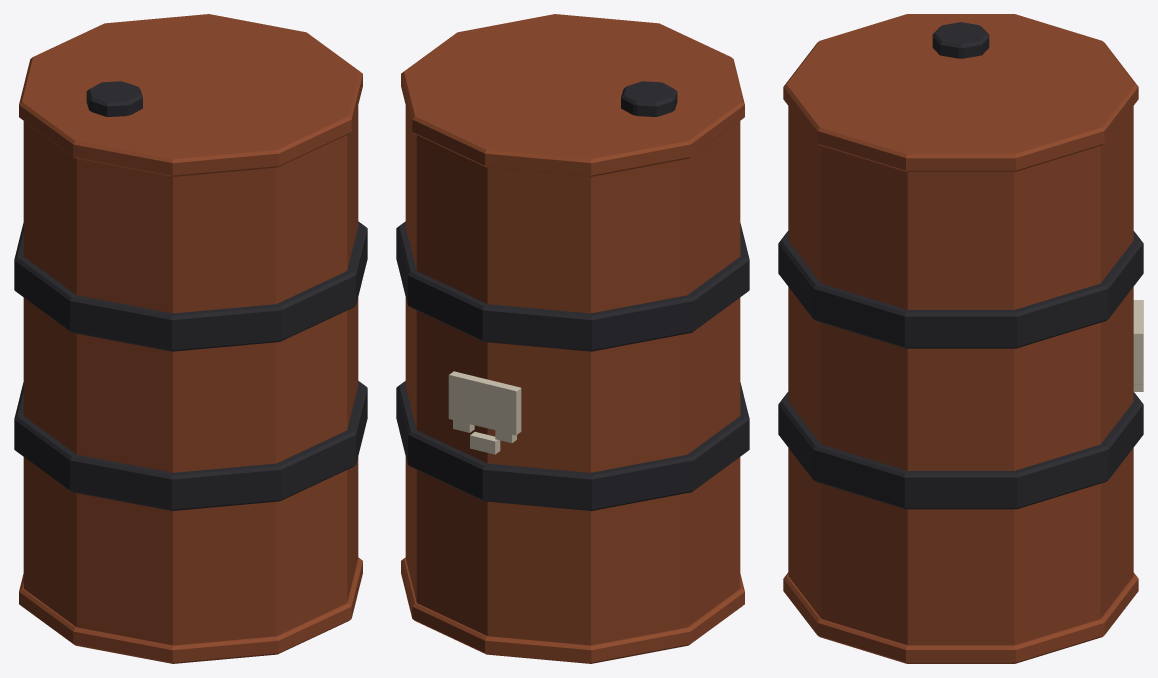
File: obstacle_barrel.obj
3 renders of one model, left to right at view 1: azimuth 30°, elevation 25°; view 2: azimuth 150°, elevation 25°; view 3: azimuth 270°, elevation 25°, orthographic.
Parts seen in each view (by area): view 1: Barrel; view 2: Barrel; view 3: Barrel.
Part boxes in pixels (<box>): Barrel: <box>14,14,367,663</box>; Barrel: <box>396,14,749,663</box>; Barrel: <box>778,14,1143,663</box>.
Size of the model in its own units: 0.7038 by 1.17 by 0.74.
